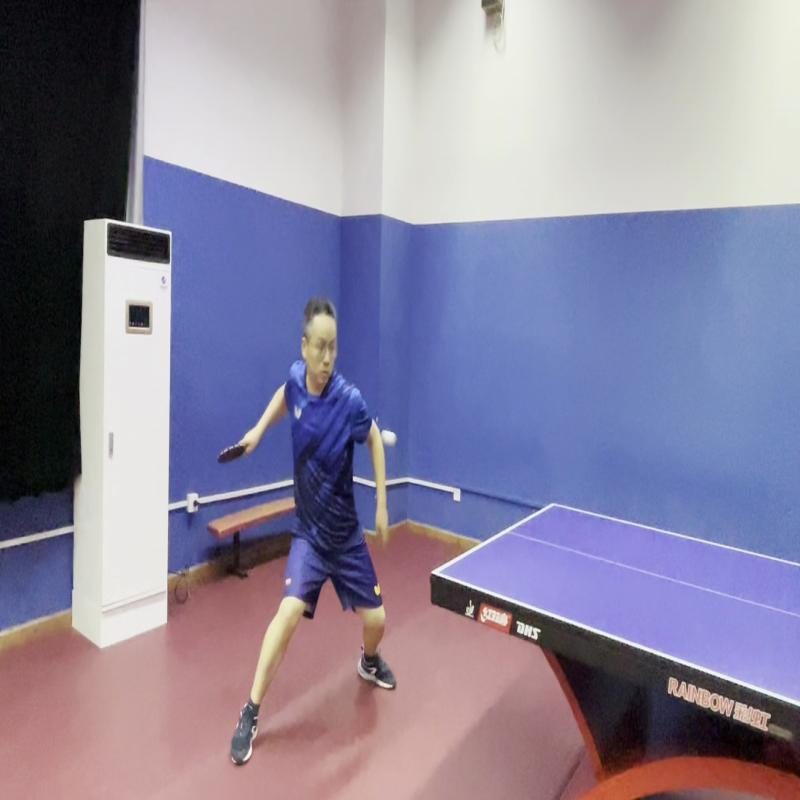bats: (215, 426, 251, 477)
